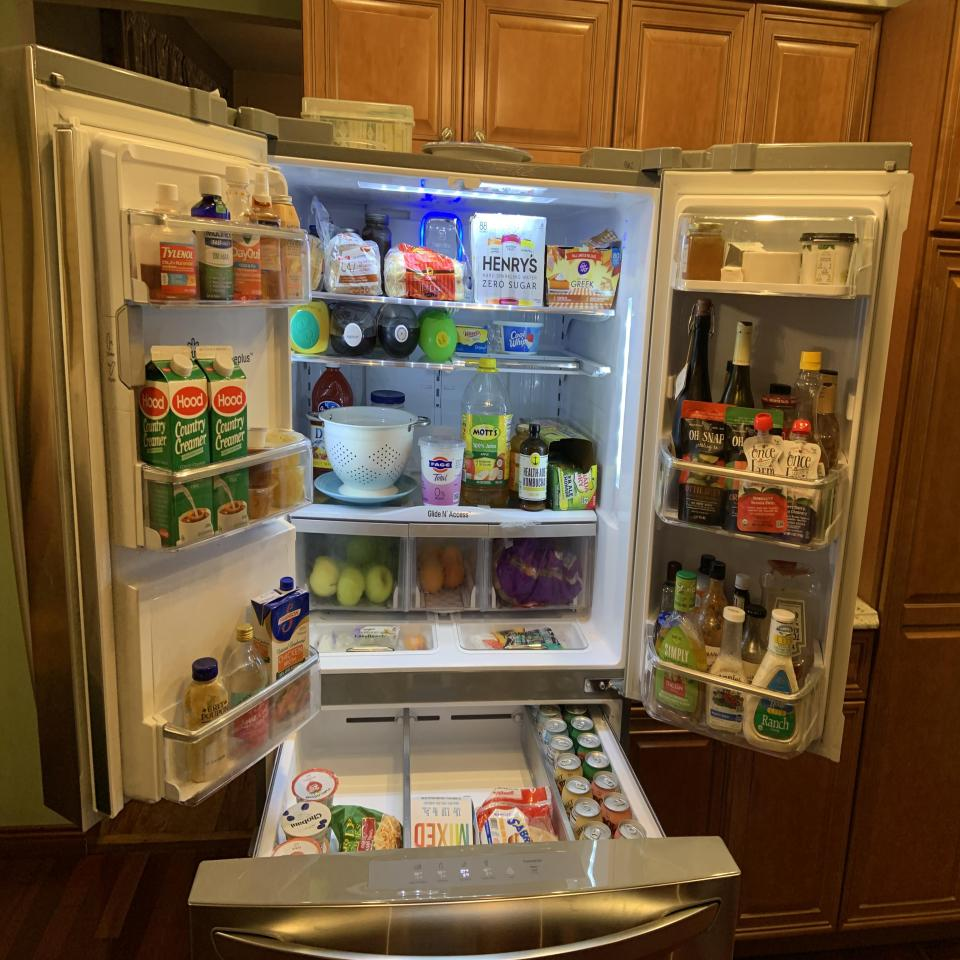Manzana: (330, 568, 366, 606), (305, 556, 340, 595), (364, 566, 393, 602), (346, 538, 372, 564)
Yogur: (416, 434, 467, 508)
